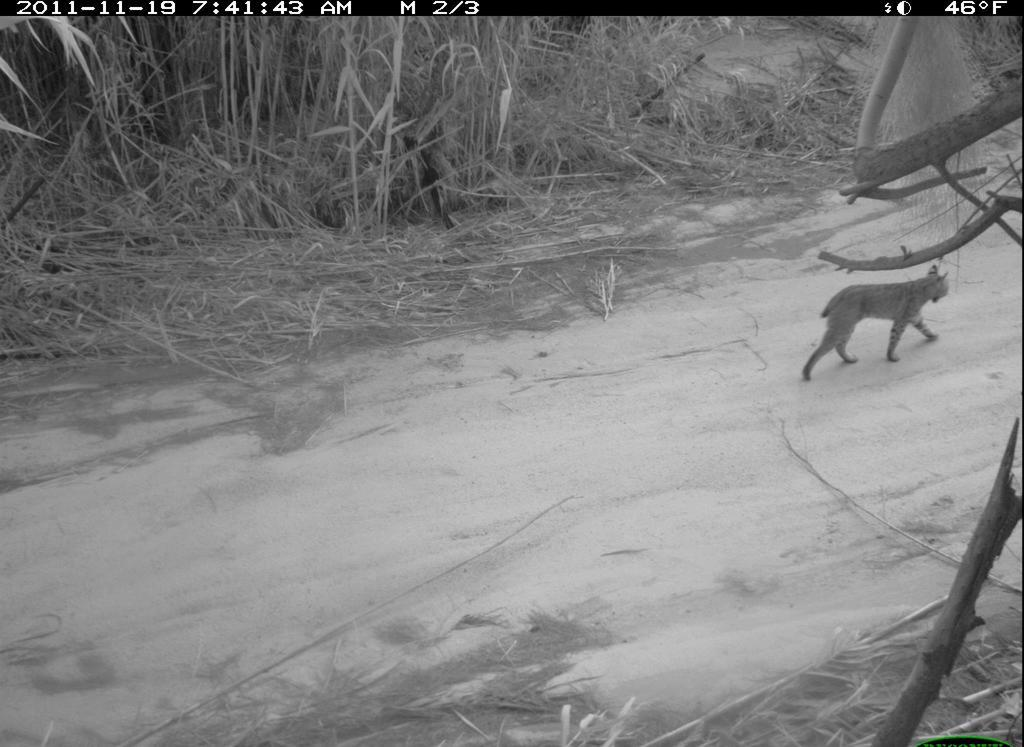bobcat: (801, 264, 953, 386)
